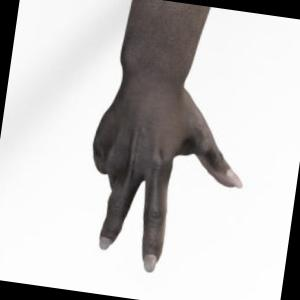scissors: (93, 0, 242, 272)
